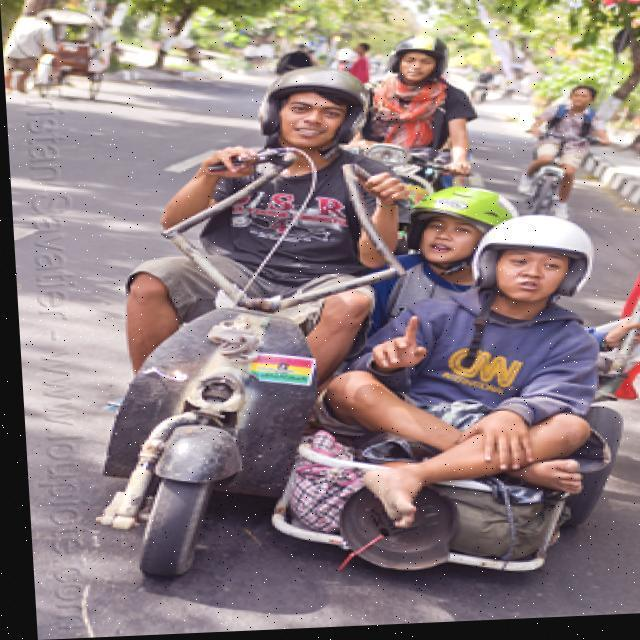Helmet: (254, 58, 372, 163)
